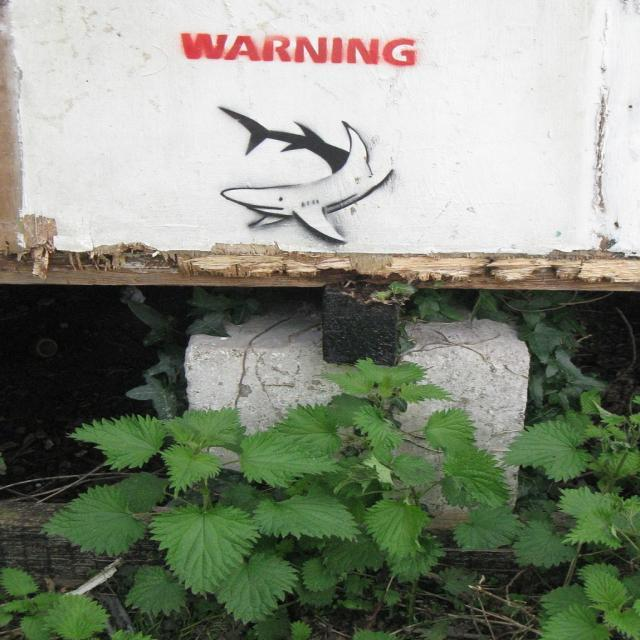Shark: (216, 99, 407, 244)
